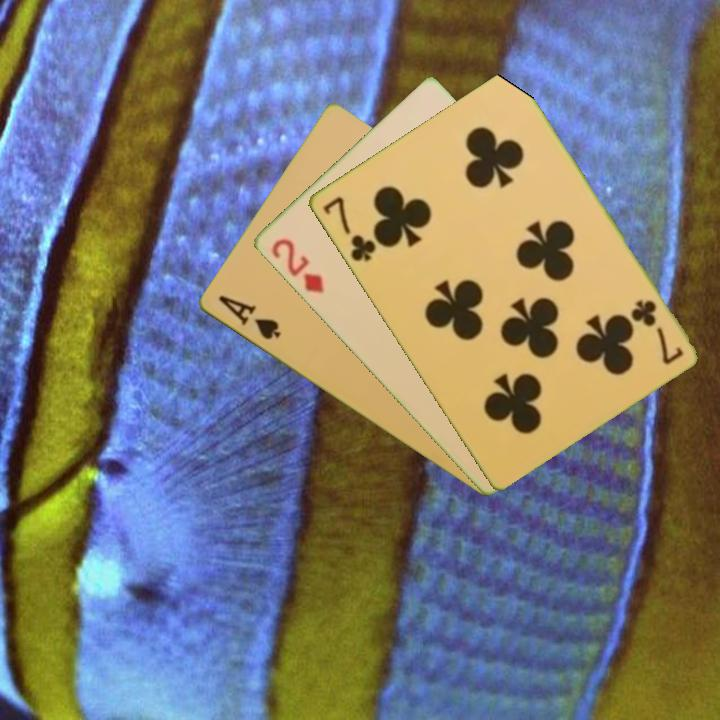2d: (267, 235, 327, 297)
7c: (318, 192, 379, 265), (627, 296, 686, 368)
As: (214, 291, 283, 343)
